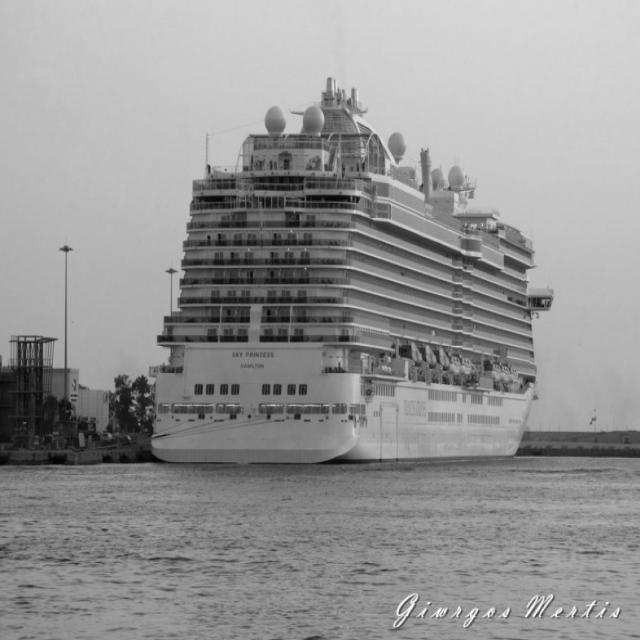cruises: (145, 72, 559, 476)
